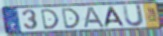3: (21, 9, 39, 31)
A: (82, 6, 107, 29), (104, 7, 127, 28)
D: (61, 7, 82, 30), (40, 8, 61, 30)
U: (121, 4, 145, 29)
